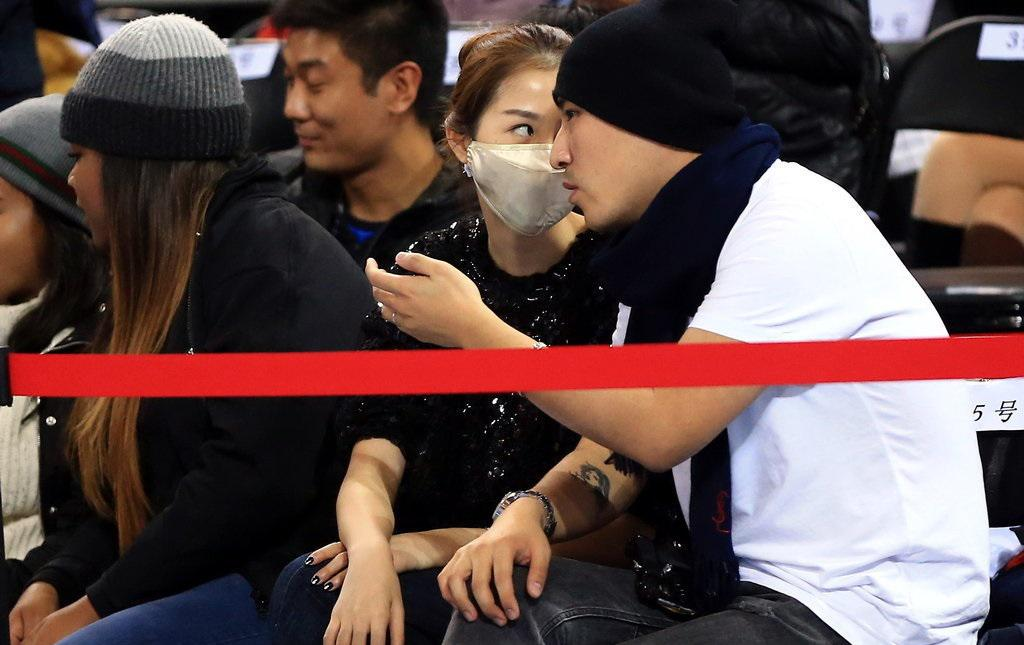NONE: (282, 32, 394, 175), (544, 91, 650, 232), (63, 135, 136, 254)
OK: (473, 82, 587, 235)
